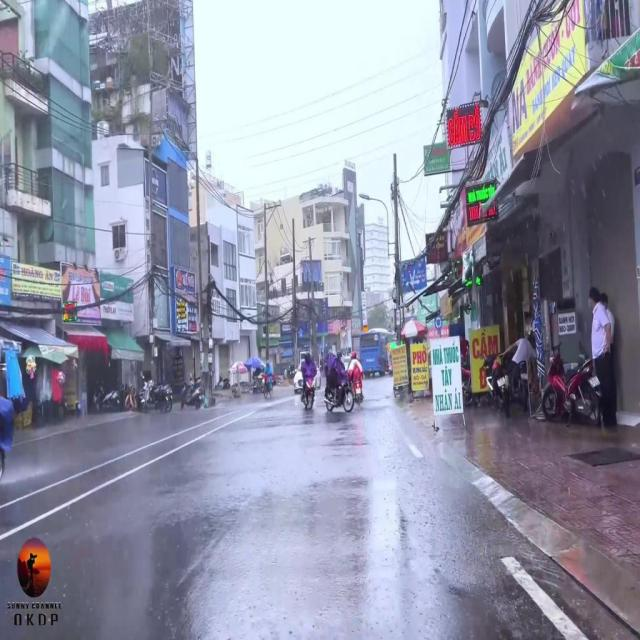khac: (401, 258, 427, 293)
noi_giao_nhau_chay_theo_vong: (434, 315, 442, 330)
